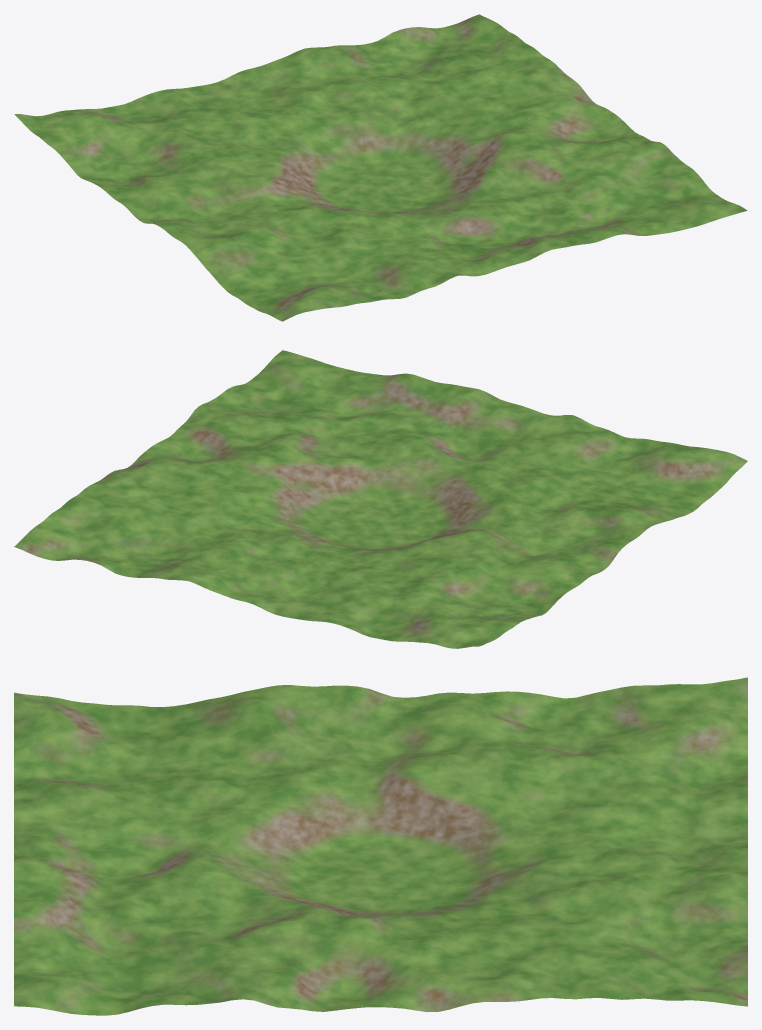
File: terrain.glb
3 views of the same model, one above another, from view 1: azimuth 30°, elevation 25°; view 2: azimuth 150°, elevation 25°; view 3: azimuth 270°, elevation 25° (orthographic). The views are drawn at different scales.
Visible parts, largest first — view 1: Terrain; view 2: Terrain; view 3: Terrain.
Boxes of the visible parts, x1,y1,x2,y2 form: Terrain: (14, 14, 747, 321); Terrain: (14, 350, 747, 648); Terrain: (14, 677, 747, 1015).
Bounding box in the file's own units: 40 × 2.57 × 40.
1 material, 1 textured.
